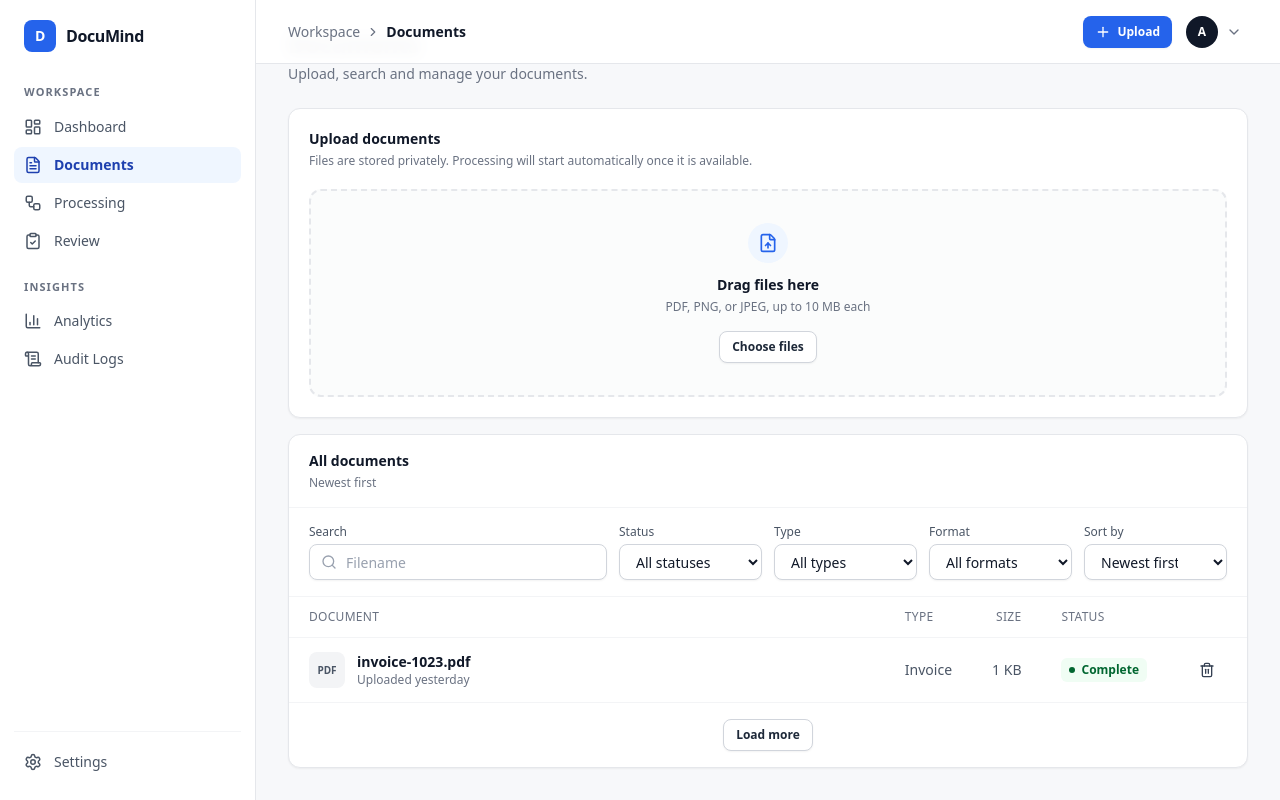
DocumentsPage › search, filters and sort › ignores a "load more" failure that arrives after the view changed
(page scrolled)
expect the heading "Documents" is shown: met, box [288,27,419,60]
Click the button "Load more": x=768, y=735 [723,719,813,751]
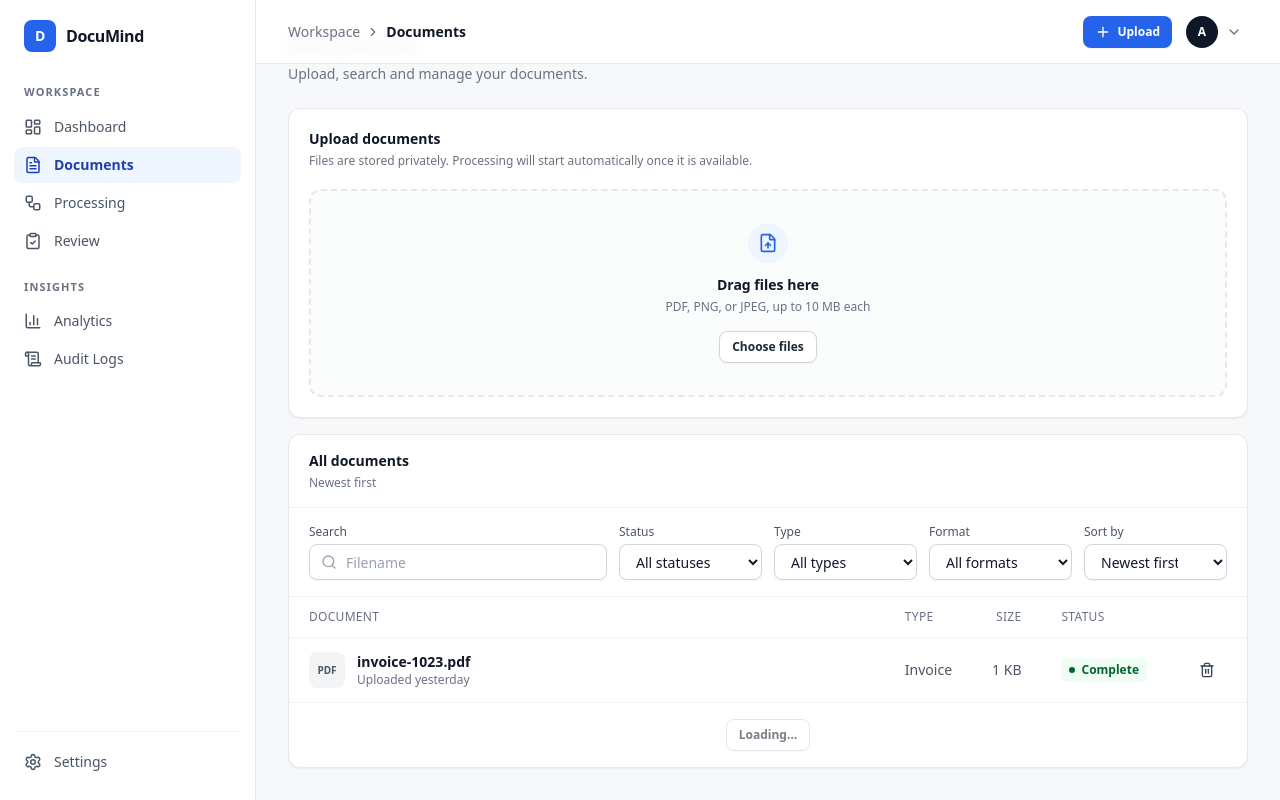
Select "Failed" in the dropdown labelled "Status": x=690, y=562 [619,544,762,580]
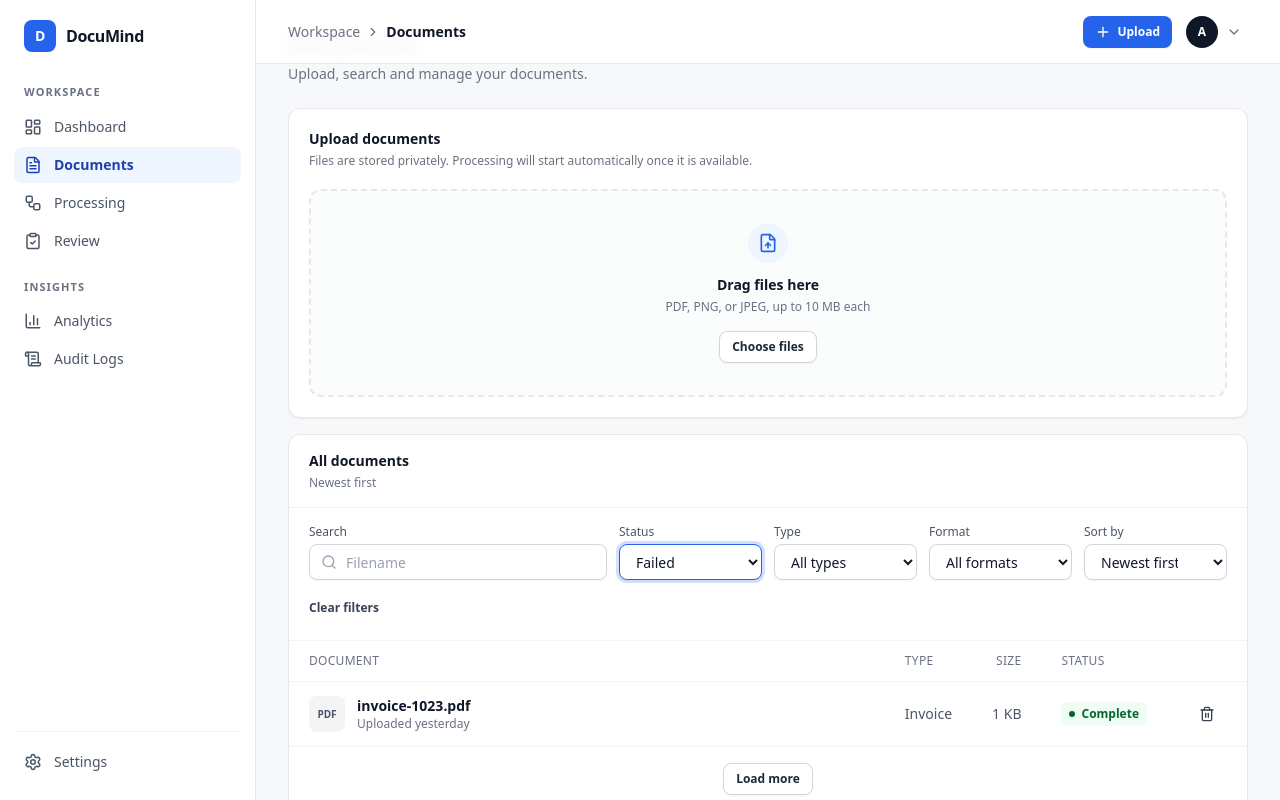
Click the button "Load more": x=768, y=779 [723,763,813,795]
(page scrolled)
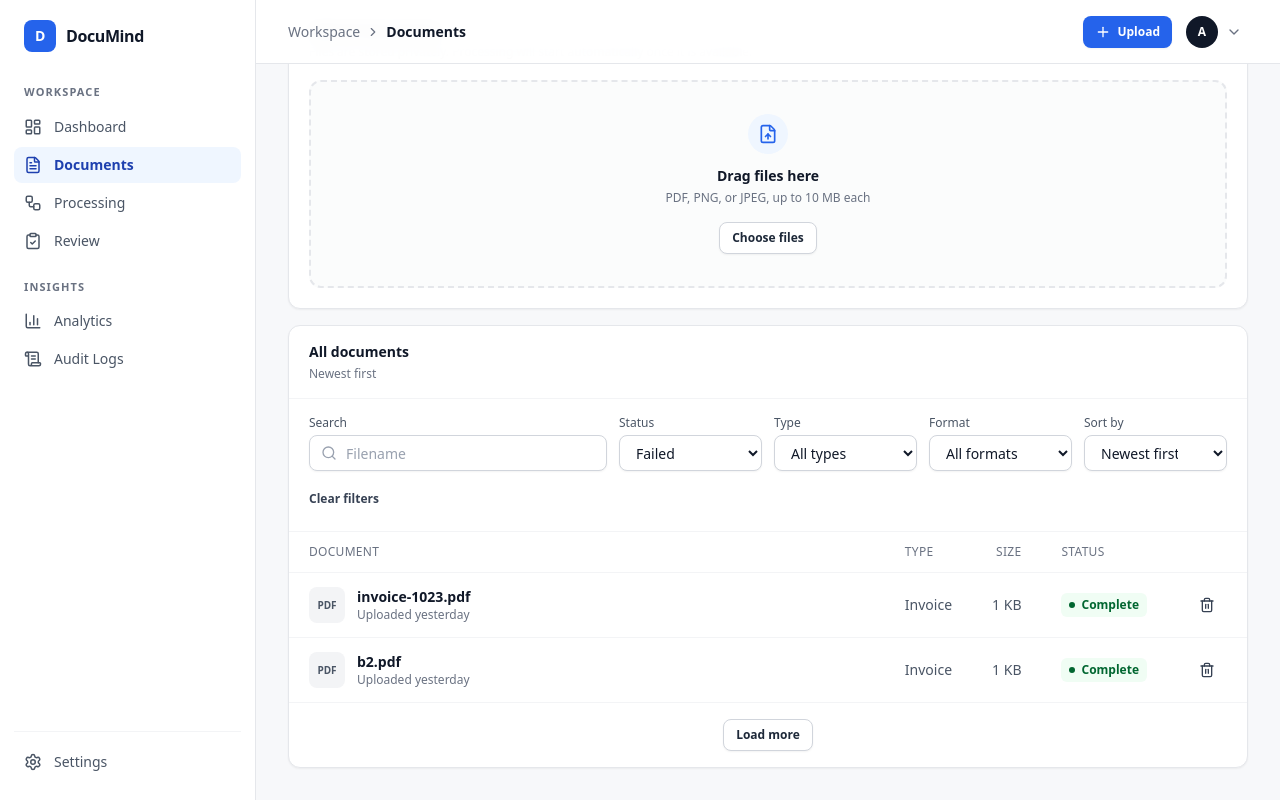
expect the button "Load more" is enabled: met, box [723,719,813,751]
expect the link "b2.pdf" is shown: met, box [357,652,401,671]
